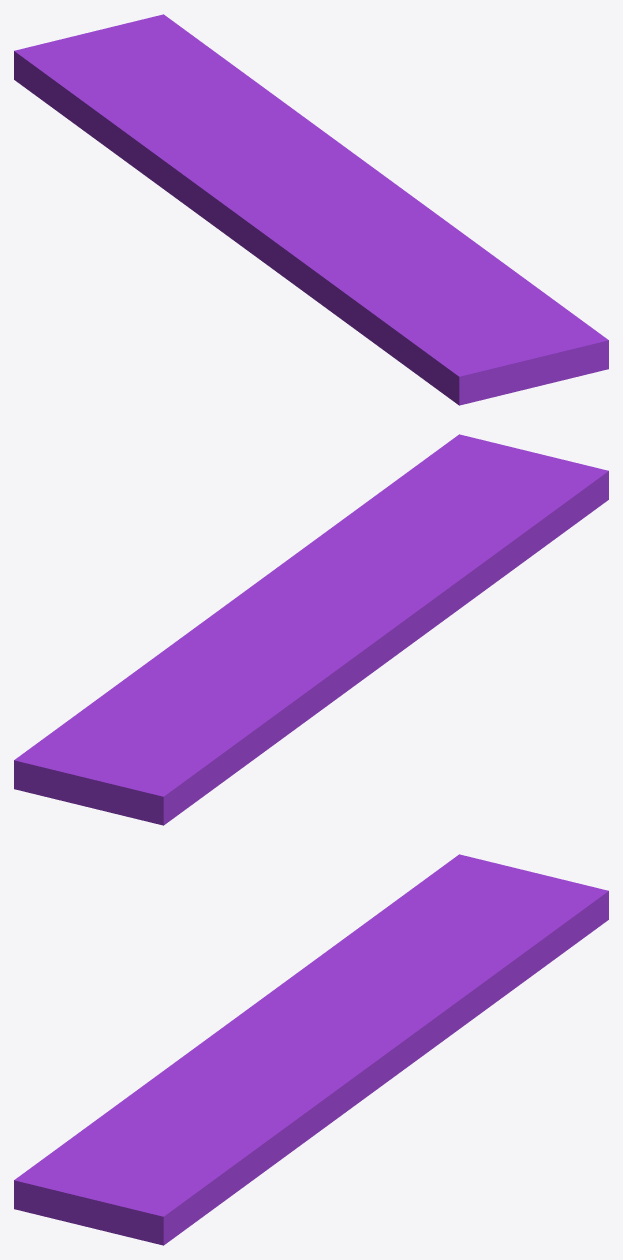
Rendered from StairsStep_134_chunks.fbx.
3 views of the same model, one above another, from view 1: azimuth 30°, elevation 25°; view 2: azimuth 150°, elevation 25°; view 3: azimuth 330°, elevation 25° (orthographic).
Visible parts, largest first — view 1: StairsStep_134_2, StairsStep_134_3, StairsStep_134_1; view 2: StairsStep_134_2, StairsStep_134_3, StairsStep_134_1; view 3: StairsStep_134_2, StairsStep_134_1, StairsStep_134_3.
Part boxes in pixels (bbox=[...]): StairsStep_134_2: bbox=[259, 194, 608, 405]; StairsStep_134_3: bbox=[14, 31, 309, 261]; StairsStep_134_1: bbox=[95, 14, 410, 195]; StairsStep_134_2: bbox=[261, 434, 608, 643]; StairsStep_134_3: bbox=[82, 616, 412, 825]; StairsStep_134_1: bbox=[14, 579, 309, 805]; StairsStep_134_2: bbox=[14, 1034, 361, 1245]; StairsStep_134_1: bbox=[313, 874, 608, 1102]; StairsStep_134_3: bbox=[214, 854, 539, 1034].
Bounding box in the file's own units: 157 × 28.98 × 810.
